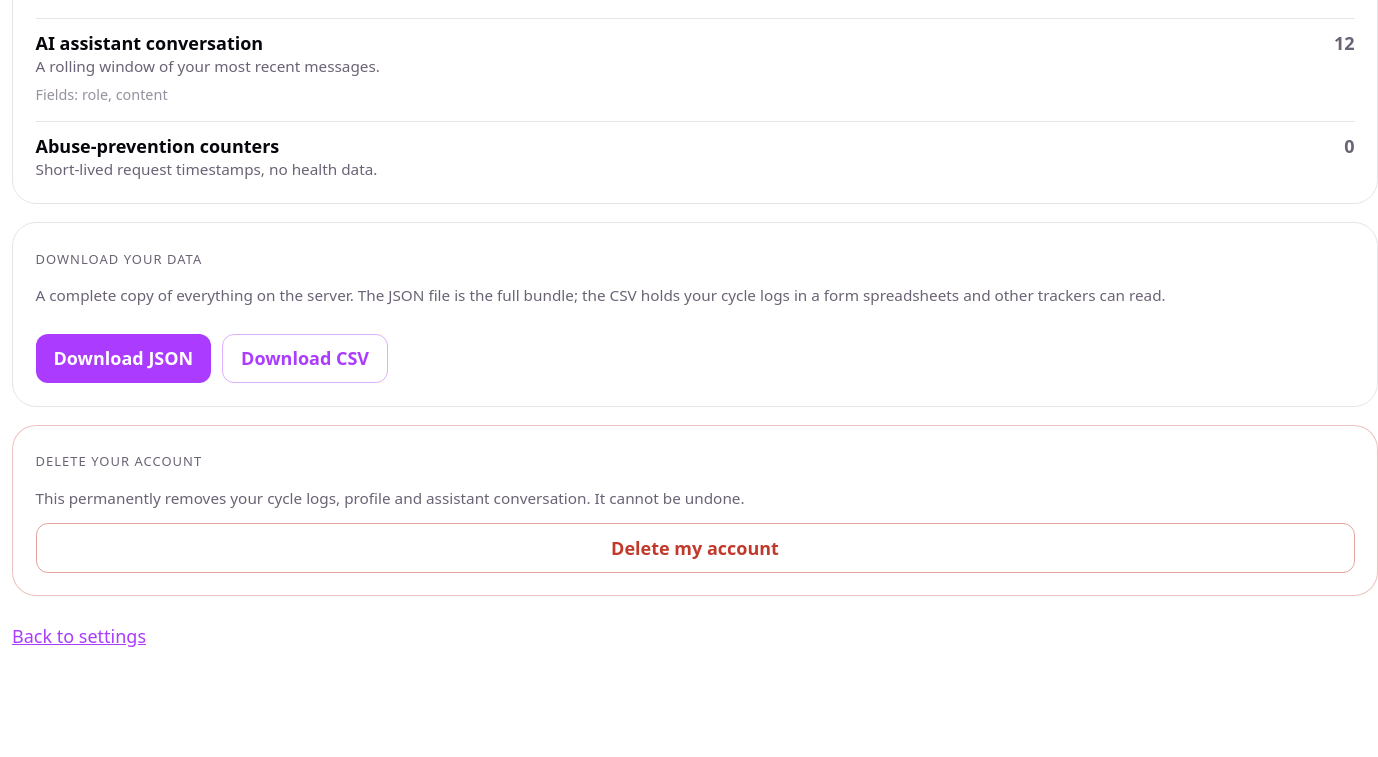
Test case: deletion › stays on the page when the preview itself fails
(page scrolled)
Click the button "Delete my account": (695,548) [36,523,1354,572]
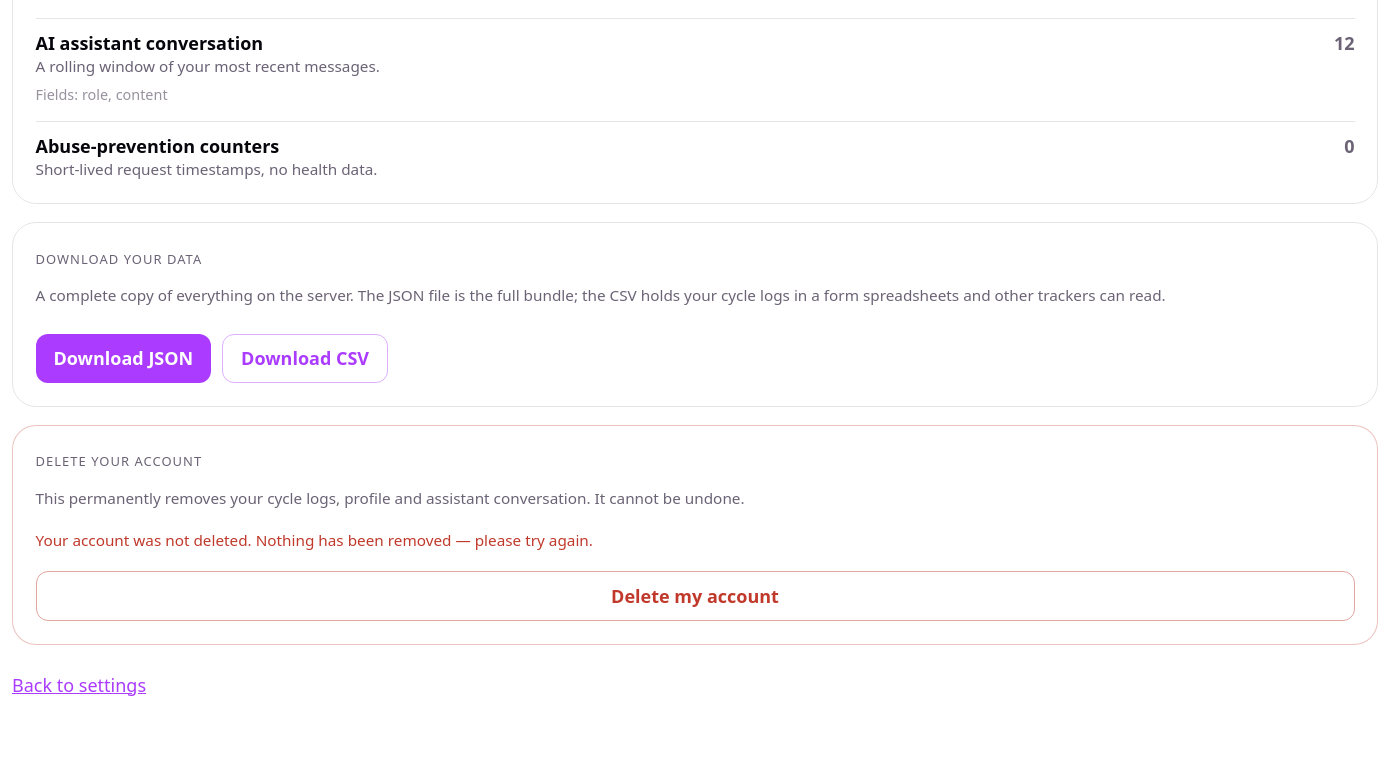
Expected: the text "Nothing has been removed" is shown, [36,530,593,550]
